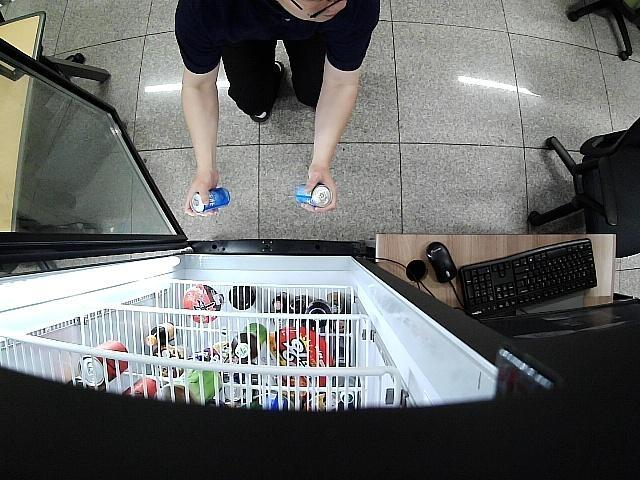15_letsbe: (192, 188, 230, 213), (296, 182, 332, 208)
